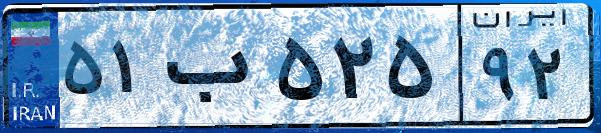1: (110, 28, 158, 98)
2: (330, 28, 385, 110), (525, 38, 570, 115)
5: (270, 28, 330, 110), (385, 28, 445, 110), (57, 26, 110, 100)
9: (475, 38, 525, 113)
ب: (158, 20, 270, 120)
